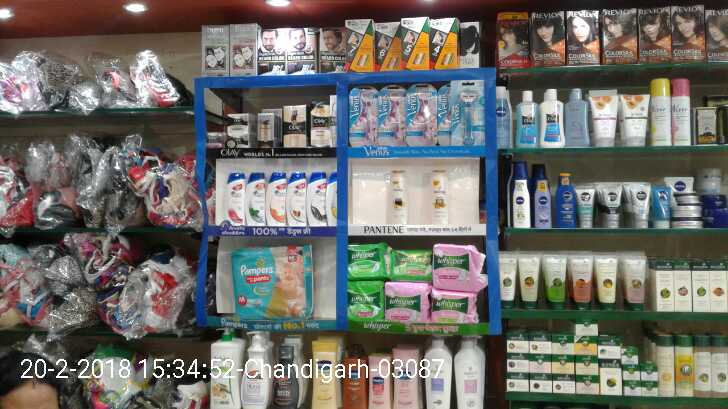venus: (452, 80, 486, 144), (406, 84, 435, 144), (377, 89, 405, 144), (351, 89, 377, 145), (438, 84, 450, 144)
